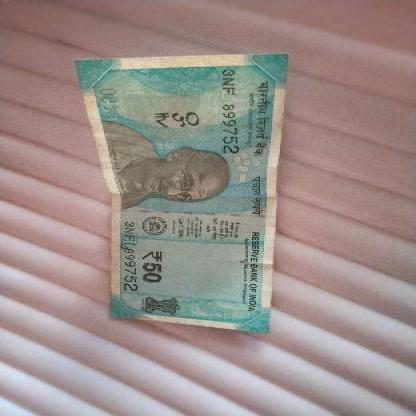New50Front: (79, 57, 282, 331)
